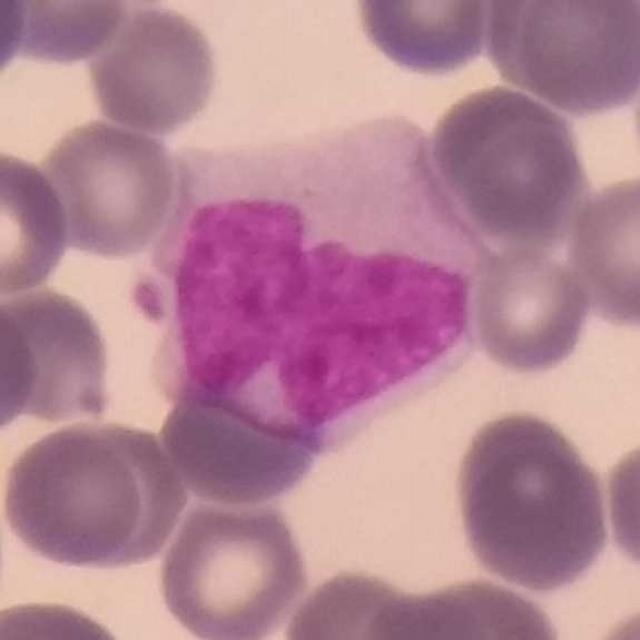mono: (145, 112, 520, 458)
